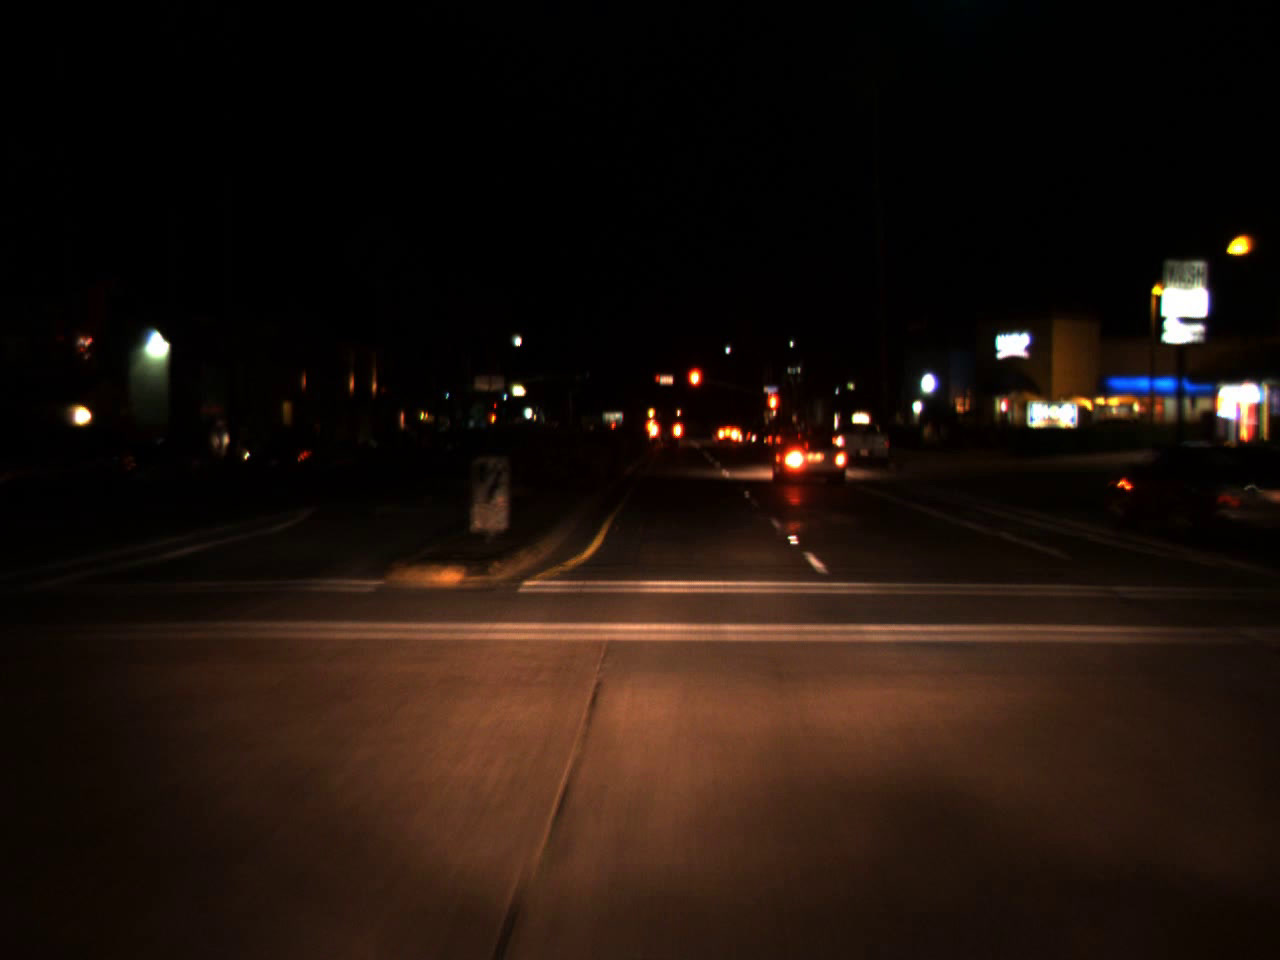stop: (686, 364, 703, 409), (765, 389, 780, 437), (655, 374, 661, 390)
